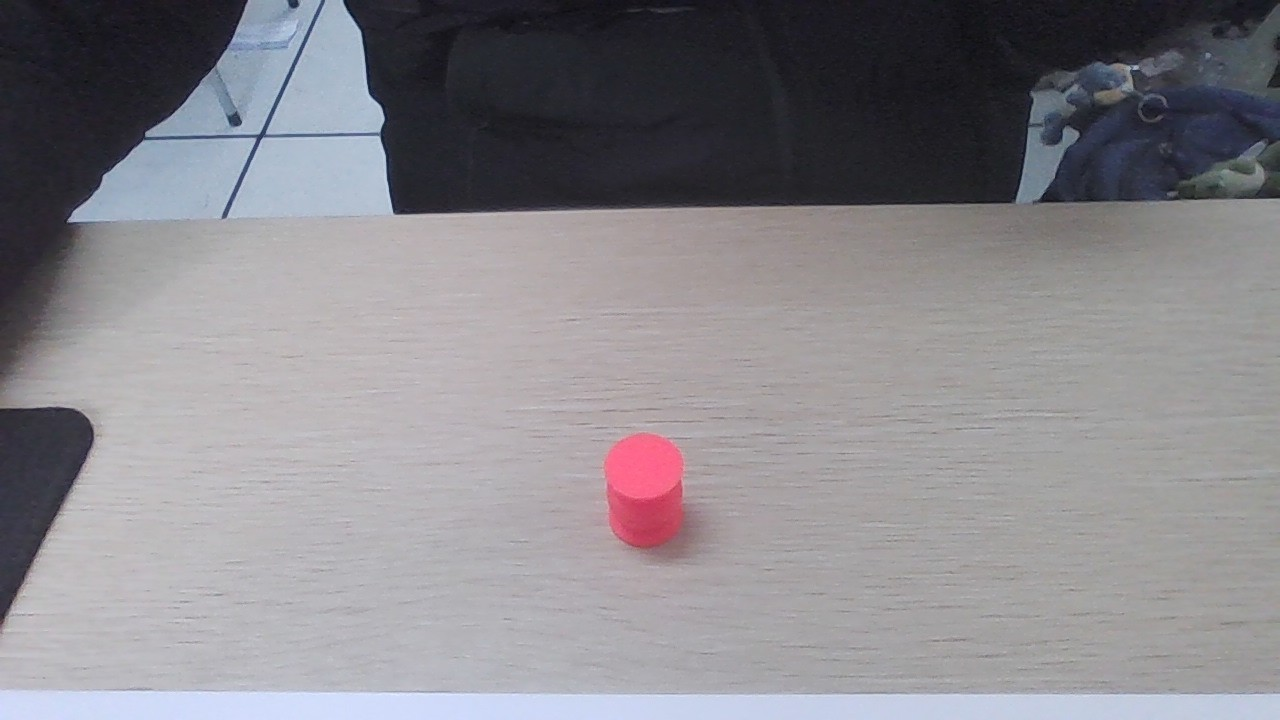KHS-plastic: (604, 431, 684, 544)
